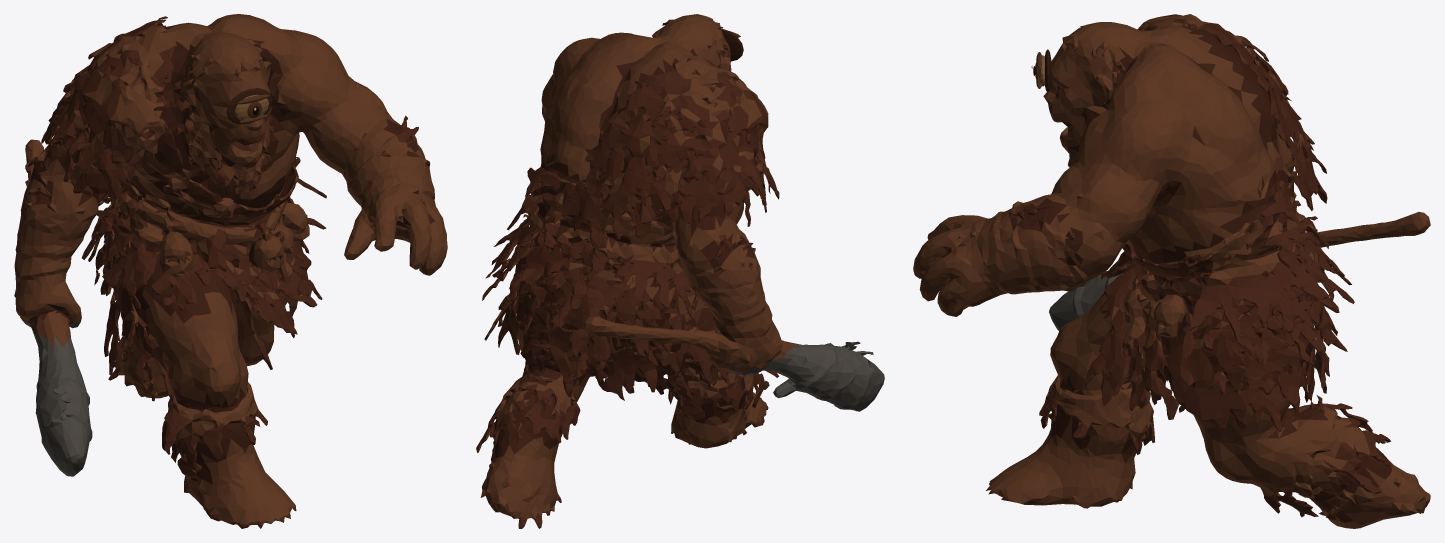
The model's file is ciclope.glb.
The picture shows the model from 3 angles, left to right: view 1: azimuth 30°, elevation 25°; view 2: azimuth 150°, elevation 25°; view 3: azimuth 270°, elevation 25°; orthographic projection. The views are drawn at different scales.
Parts seen in each view (by area): view 1: tmp169edryp.ply, Ciclope_MonocularSocket; view 2: tmp169edryp.ply; view 3: tmp169edryp.ply.
Part boxes in pixels (box(x1,y1,x2,y2)): tmp169edryp.ply: box(14, 14, 447, 528); Ciclope_MonocularSocket: box(226, 88, 272, 124); tmp169edryp.ply: box(476, 14, 884, 528); tmp169edryp.ply: box(913, 14, 1430, 528).
Size of the model in its own units: 1.62 by 1.96 by 1.92.
